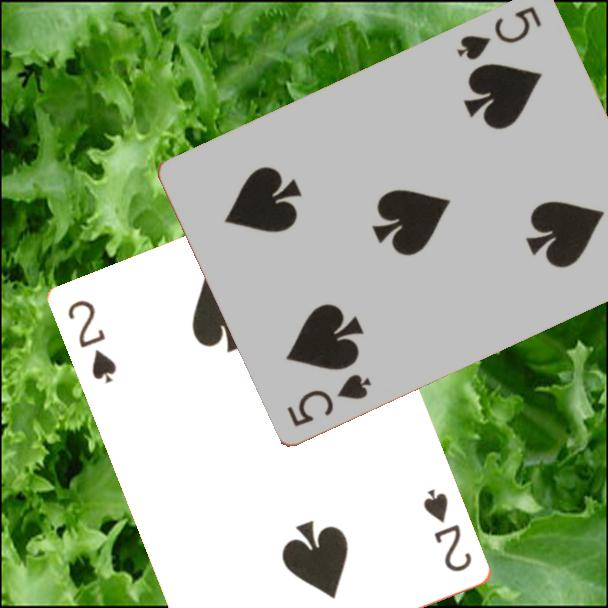s02: (64, 296, 120, 387), (420, 485, 476, 575)
s05: (453, 2, 545, 63), (283, 370, 375, 429)
